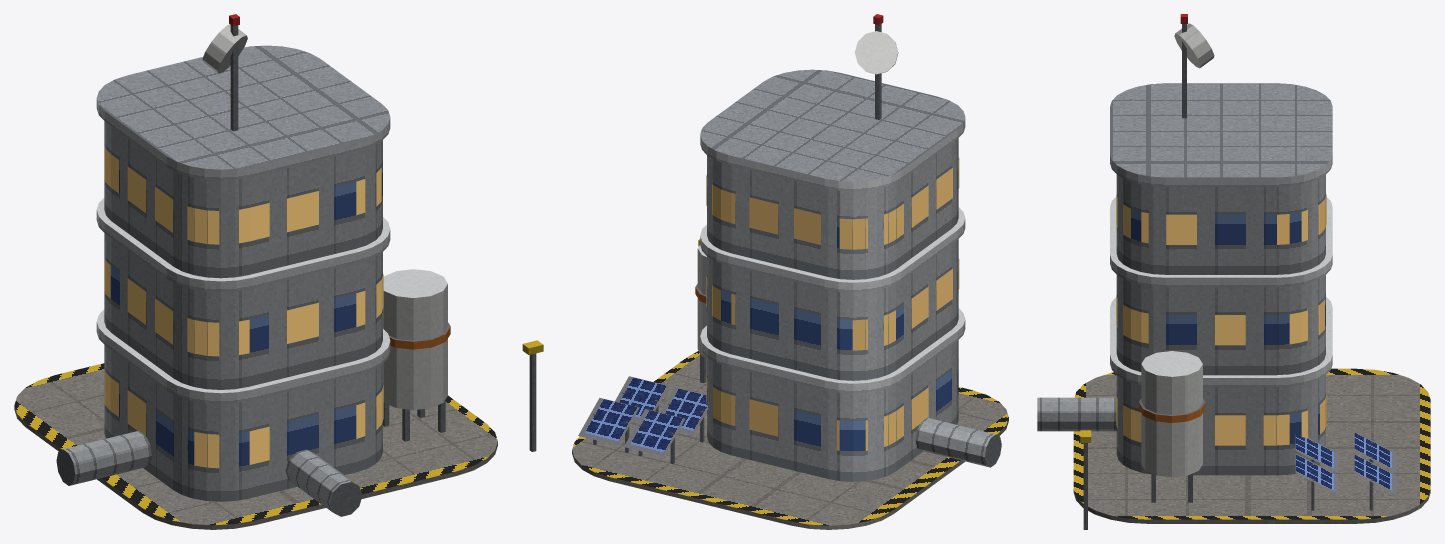
Rendered from mars_2_inhab_kondominium_b.glb.
3 views of the same model, side by side, from view 1: azimuth 30°, elevation 25°; view 2: azimuth 150°, elevation 25°; view 3: azimuth 270°, elevation 25° (orthographic). The views are drawn at different scales.
Parts seen in each view (by area): view 1: inhab_kondominium_b, noc; view 2: inhab_kondominium_b, noc; view 3: inhab_kondominium_b, noc.
Part boxes in pixels (left/top/right/bottom): inhab_kondominium_b: left=14, top=14, right=543, bottom=529; noc: left=104, top=146, right=383, bottom=468; inhab_kondominium_b: left=572, top=14, right=1008, bottom=529; noc: left=706, top=158, right=959, bottom=450; inhab_kondominium_b: left=1037, top=14, right=1430, bottom=529; noc: left=1116, top=194, right=1326, bottom=445.
Size of the model in its own units: 13.43 by 14.59 by 12.78.
Materials: 1 (1 with a texture image).
